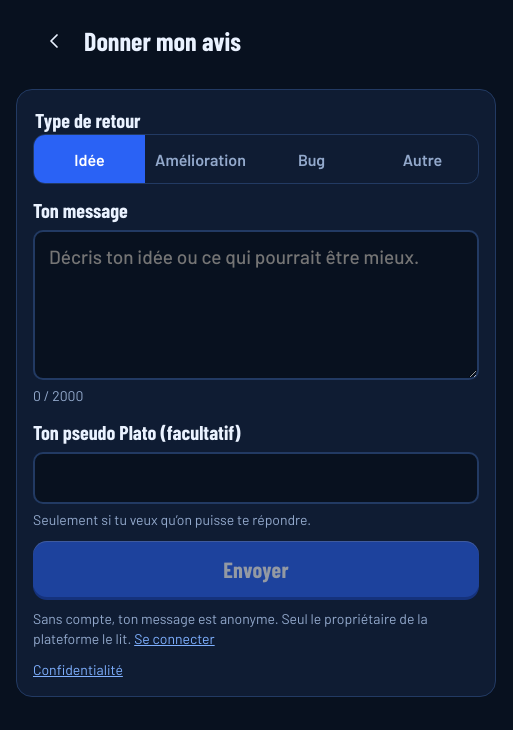
Test: donner son avis › n’envoie pas un message trop court et affiche l’erreur de l’API sinon
Step 1. Type "abc" into the text box labelled "Ton message" → coordinates (256, 305), box [33,230,479,380]
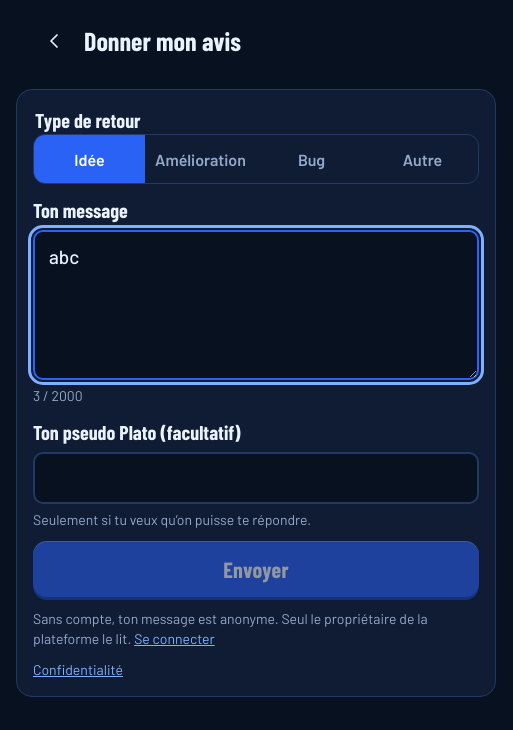
Expected: the button "Envoyer" is disabled, [33,541,479,597]
Step 2. Type "defgh" into the text box labelled "Ton message" → coordinates (256, 305), box [33,230,479,380]
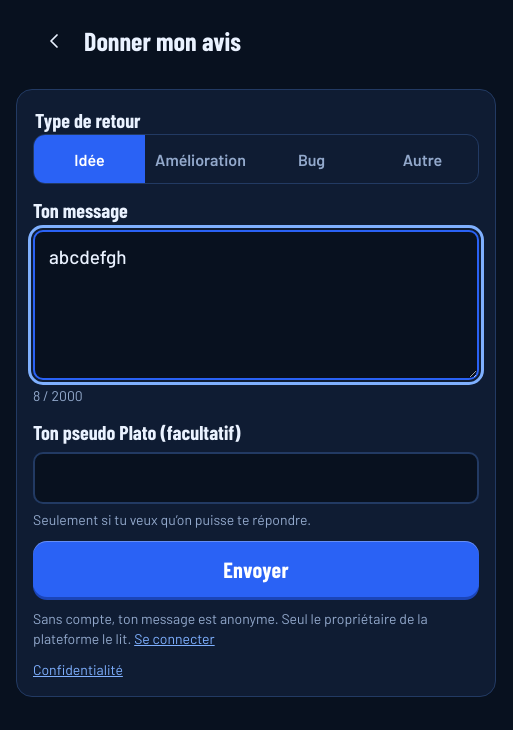
Step 3. Click the button "Envoyer" → coordinates (256, 569), box [33,541,479,597]
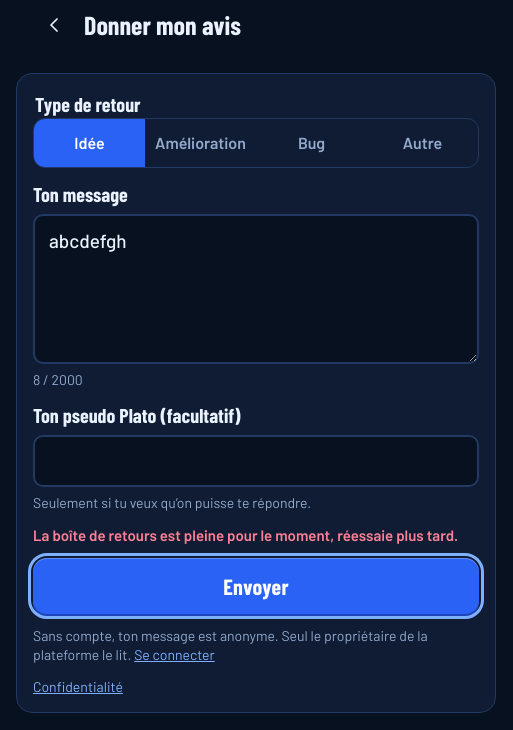
Expected: the message shows "boîte de retours est pleine", [33,526,458,544]
